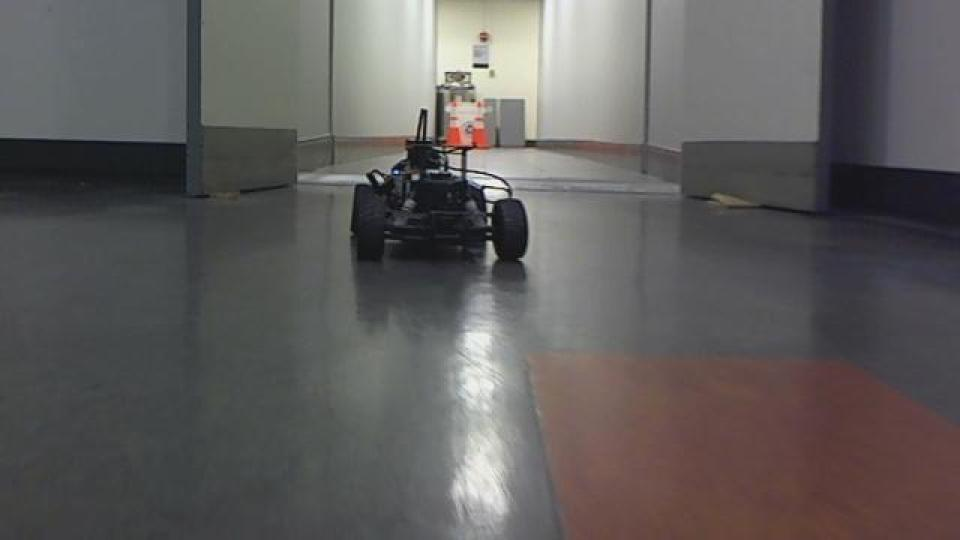car: (347, 107, 531, 267)
